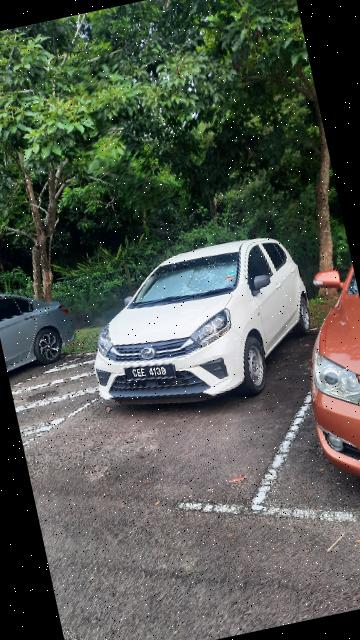License_Plate: (120, 356, 182, 393)
car: (74, 227, 327, 429)
